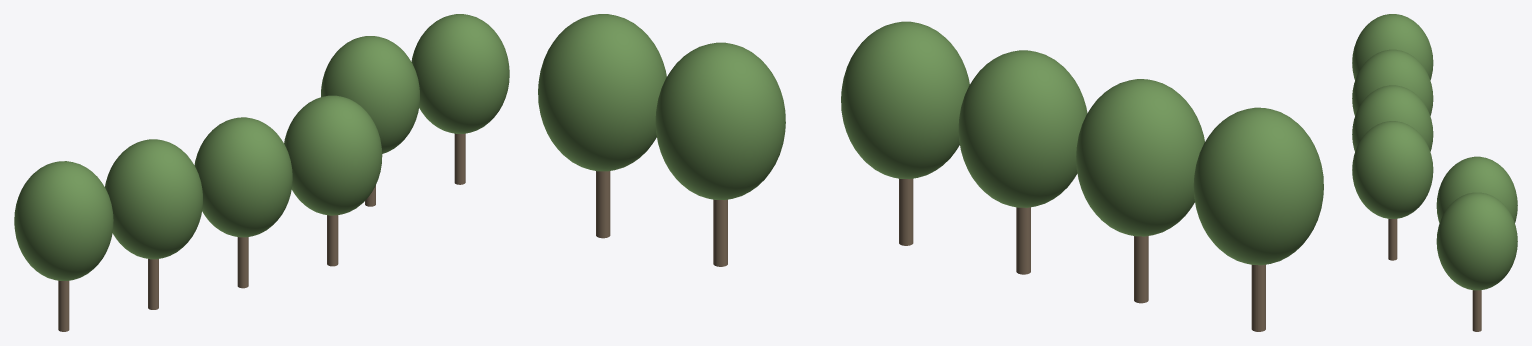
The model's file is trees.glb.
3 renders of one model, left to right at view 1: azimuth 30°, elevation 25°; view 2: azimuth 150°, elevation 25°; view 3: azimuth 270°, elevation 25°, orthographic. The views are drawn at different scales.
Parts seen in each view (by area): view 1: Icosphere, Icosphere.003, Icosphere.005, Icosphere.002, Icosphere.001, Icosphere.004, Cylinder.002, Cylinder.003, Cylinder.005, Cylinder, Cylinder.001; view 2: Icosphere.004, Icosphere, Icosphere.002, Icosphere.003, Icosphere.001, Icosphere.005, Cylinder.002, Cylinder.001, Cylinder.005, Cylinder.003, Cylinder.004, Cylinder; view 3: Icosphere.005, Icosphere.003, Icosphere.001, Icosphere.004, Icosphere, Icosphere.002, Cylinder.005, Cylinder.003.
Part boxes in pixels (x1,y1,x2,y2): Icosphere: (14, 161, 113, 280); Icosphere.003: (284, 95, 382, 215); Icosphere.005: (411, 14, 509, 133); Icosphere.002: (194, 117, 292, 237); Icosphere.001: (105, 139, 202, 259); Icosphere.004: (321, 36, 419, 153); Cylinder.002: (237, 237, 248, 288); Cylinder.003: (327, 215, 338, 266); Cylinder.005: (454, 133, 465, 184); Cylinder: (58, 280, 69, 331); Cylinder.001: (148, 259, 158, 309); Icosphere.004: (655, 42, 785, 200); Icosphere: (1193, 107, 1323, 265); Icosphere.002: (958, 50, 1087, 207); Icosphere.003: (841, 21, 969, 179); Icosphere.001: (1076, 79, 1204, 236); Icosphere.005: (538, 14, 666, 171); Cylinder.002: (1016, 207, 1030, 274); Cylinder.001: (1134, 236, 1148, 303); Cylinder.005: (596, 171, 610, 238); Cylinder.003: (899, 178, 913, 245); Cylinder.004: (713, 199, 727, 266); Cylinder: (1251, 264, 1265, 331); Icosphere.005: (1436, 192, 1517, 290); Icosphere.003: (1352, 121, 1433, 218); Icosphere.001: (1352, 49, 1433, 115); Icosphere.004: (1436, 156, 1517, 222); Icosphere: (1352, 14, 1433, 80); Icosphere.002: (1352, 85, 1433, 151); Cylinder.005: (1472, 290, 1481, 331); Cylinder.003: (1388, 219, 1397, 260).
Bounding box in the file's own units: 15.5 × 4.57 × 5.1.
